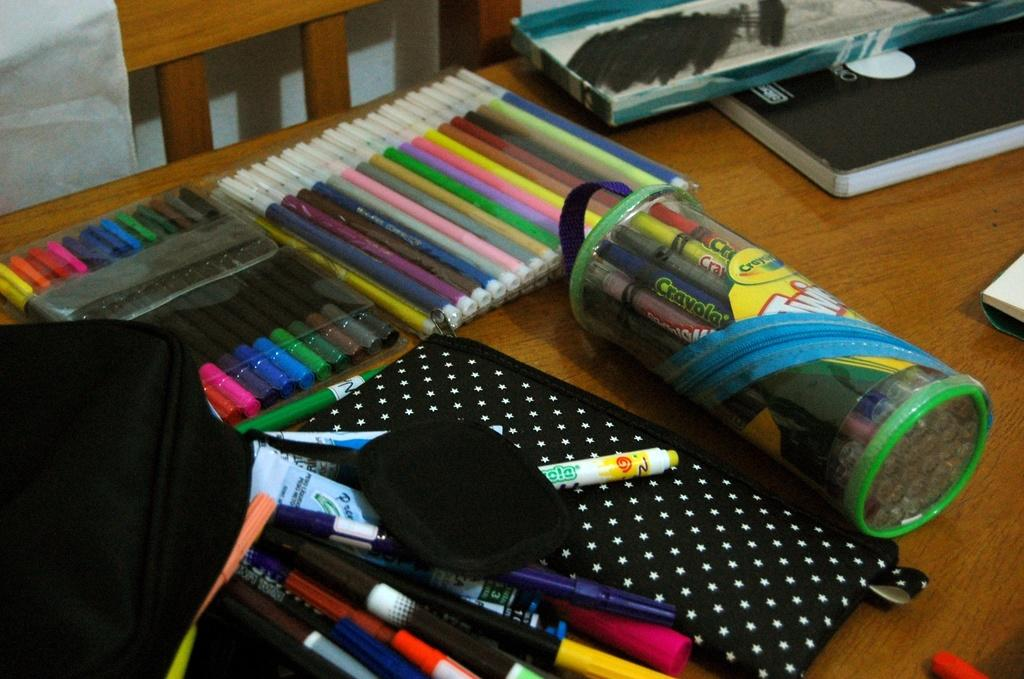pen: (575, 184, 992, 548), (211, 67, 696, 340), (156, 497, 724, 678), (0, 186, 411, 430), (535, 445, 680, 492), (927, 650, 998, 678)
